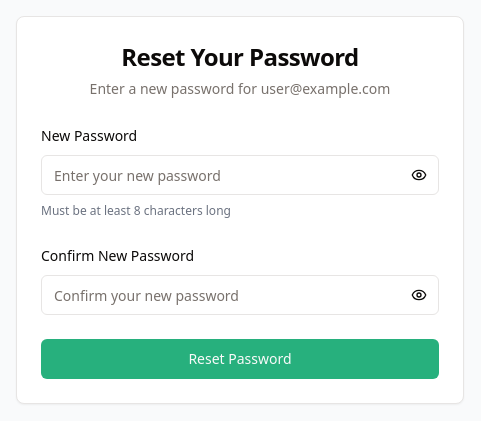
Scenario: Auth Pages Submission › ResetPassword › submits confirmResetPassword with the oobCode and new password
Type "Secret123!" into the password field labelled "New Password".
click(240, 175); type("Secret123!")  # box [41,155,439,195]
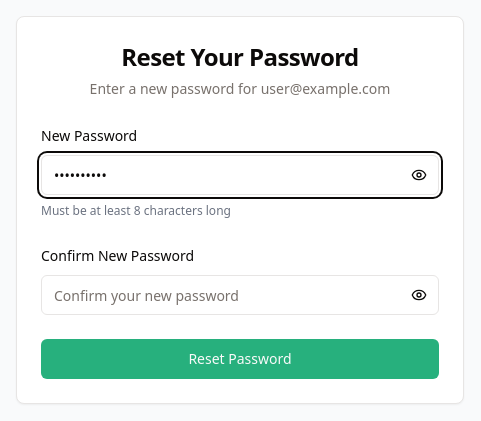
Type "Secret123!" into the password field labelled "Confirm New Password".
click(240, 295); type("Secret123!")  # box [41,275,439,315]
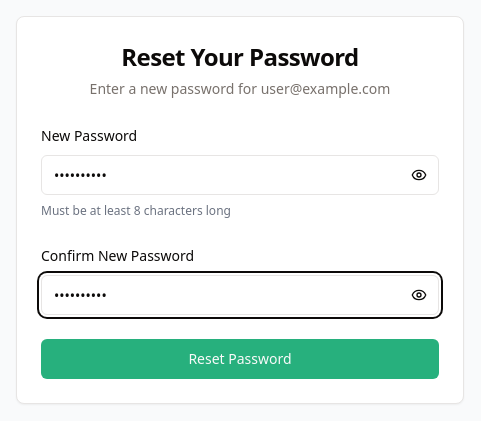
Submit the form named "Reset Password", box [41,123,439,379]
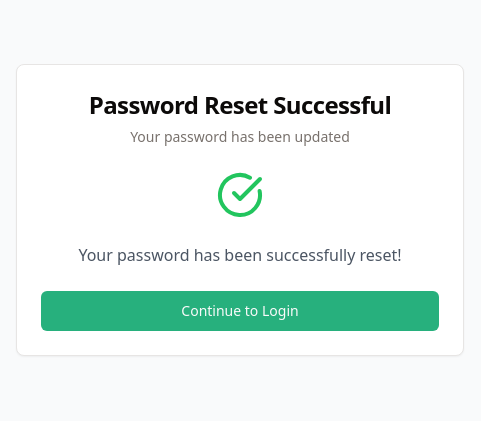
Check: the text "Password Reset Successful" is shown, box [89,88,391,121]
